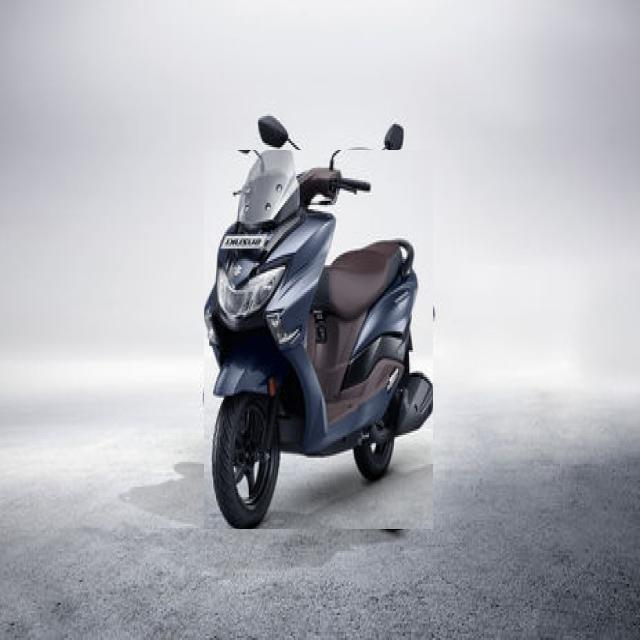motorcycle: (205, 150, 433, 529)
